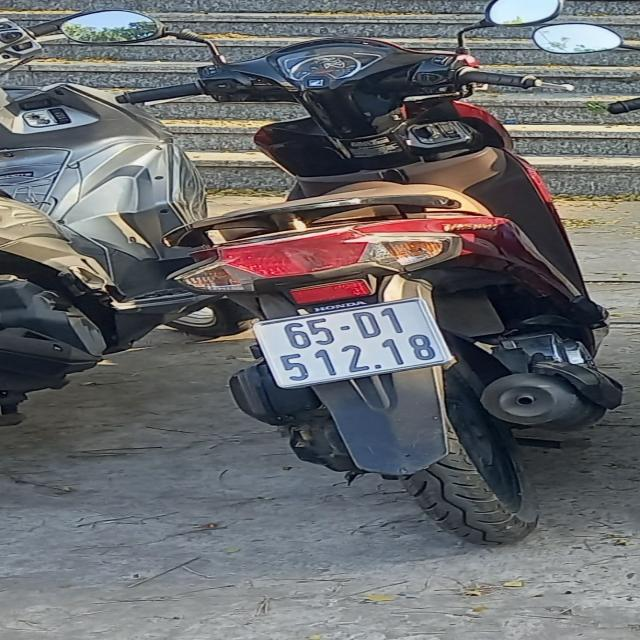1: (380, 307, 408, 334), (380, 338, 407, 365), (315, 349, 341, 375)
2: (340, 343, 368, 372)
5: (280, 351, 308, 382), (308, 318, 338, 346)
6: (281, 322, 312, 348)
8: (406, 333, 436, 362)
D: (352, 311, 382, 339)
